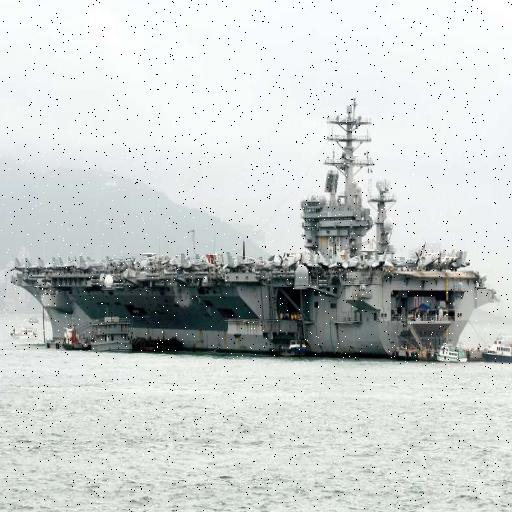Portanaves: (8, 95, 507, 368)
